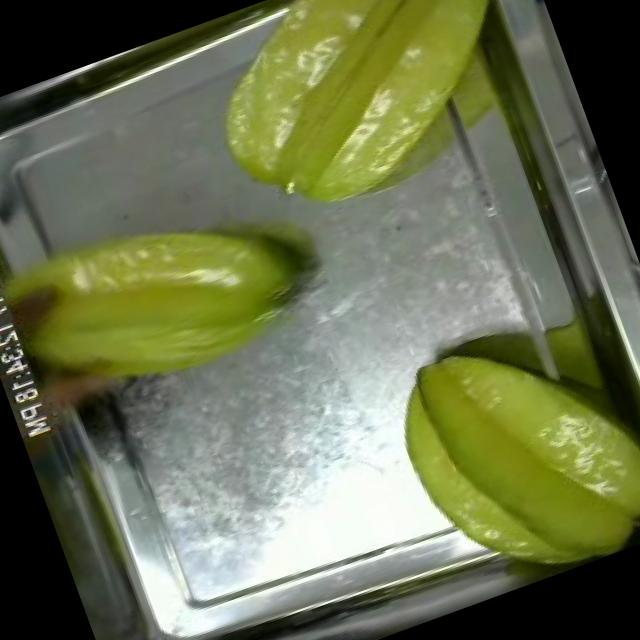fruit: (163, 0, 559, 250), (0, 157, 338, 434), (366, 287, 640, 612)
